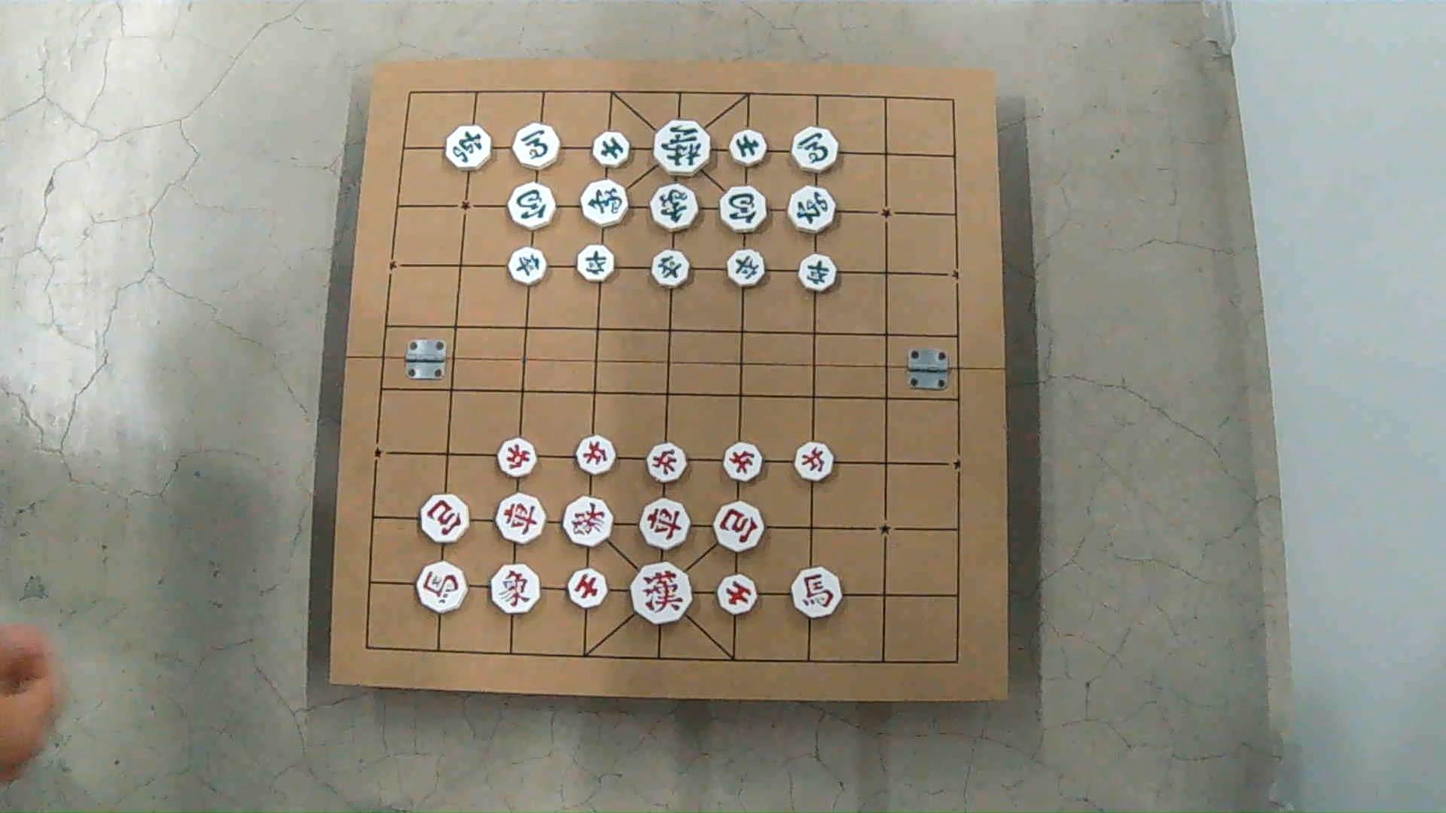cha_green: (789, 186, 837, 233), (446, 125, 493, 170)
cha_red: (496, 493, 546, 544), (640, 499, 690, 548)
jol_green: (508, 246, 547, 285), (651, 250, 689, 288), (728, 249, 765, 287), (800, 254, 837, 291), (577, 245, 615, 281)
jol_red: (497, 437, 537, 477), (723, 442, 763, 482), (647, 443, 686, 483), (576, 435, 615, 475), (795, 442, 834, 481)
ma_green: (513, 123, 562, 169), (792, 126, 840, 172)
ma_red: (416, 562, 467, 612), (792, 567, 841, 617)
po_green: (719, 185, 768, 233), (508, 183, 555, 229)
po_red: (714, 501, 764, 552), (420, 493, 469, 543)
sa_green: (591, 131, 631, 167), (729, 129, 767, 166)
sa_red: (717, 574, 756, 614), (568, 568, 606, 607)
sang_green: (651, 183, 699, 231), (581, 180, 629, 227)
sang_red: (563, 497, 612, 546), (490, 565, 540, 613)
wang_green: (654, 119, 711, 175)
wang_red: (631, 562, 691, 623)
